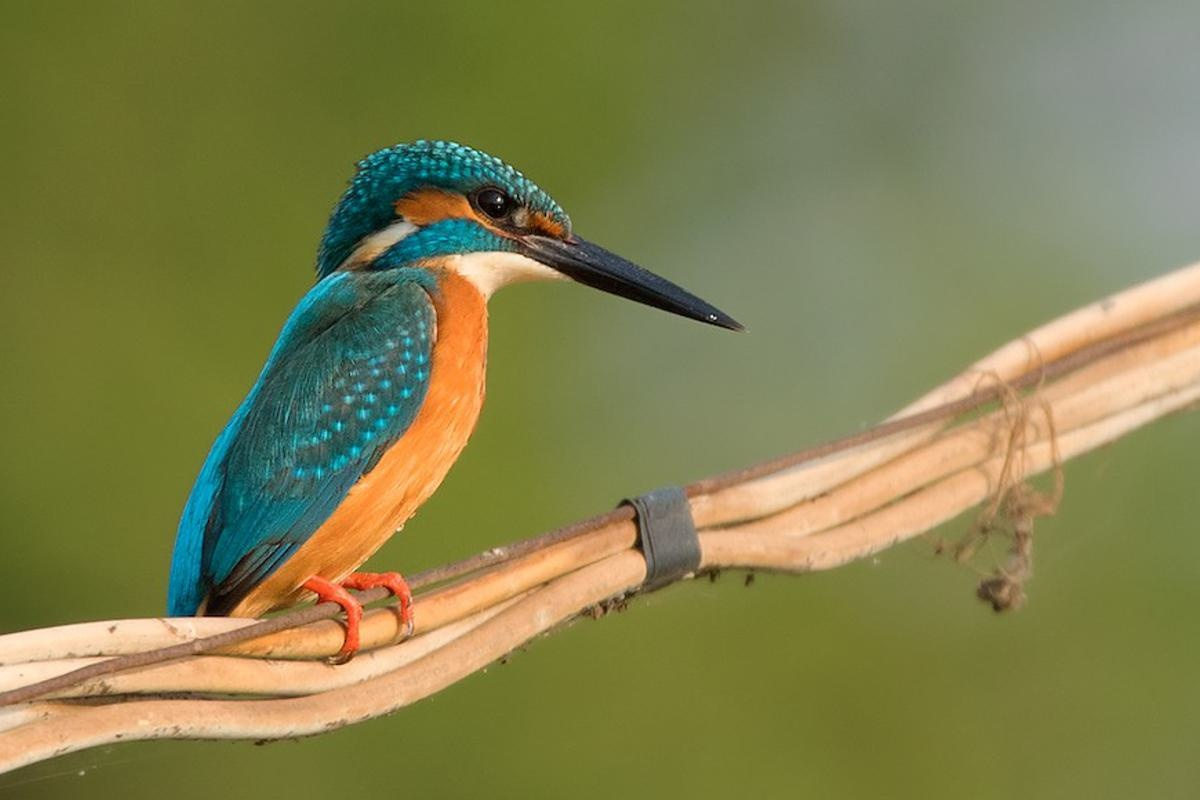kingfisher: (141, 125, 749, 666)
